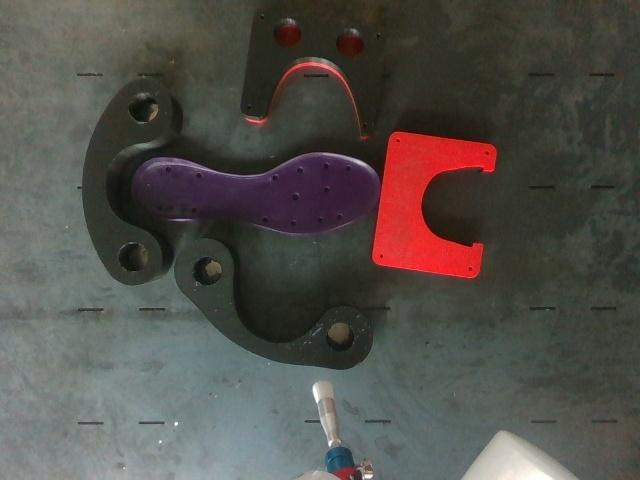shoes: (131, 153, 380, 235)
